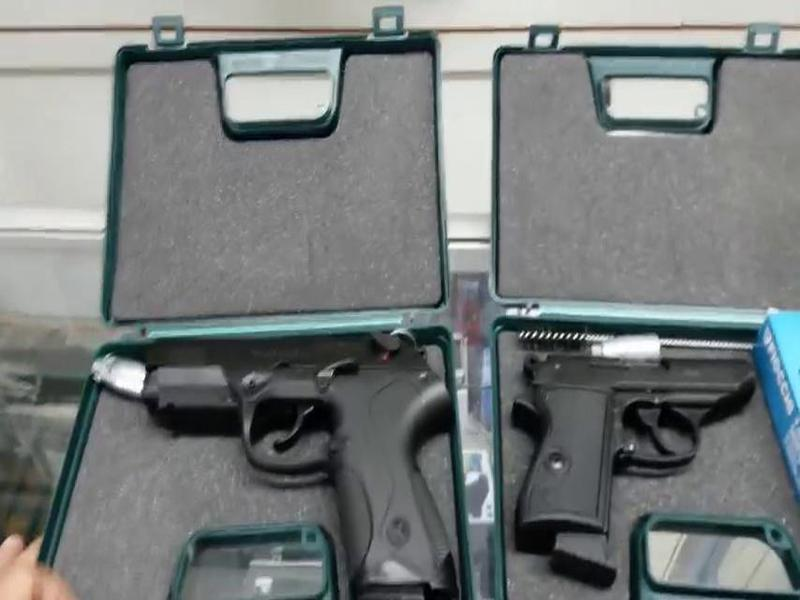Pistola: (137, 324, 472, 600), (514, 332, 778, 555)
